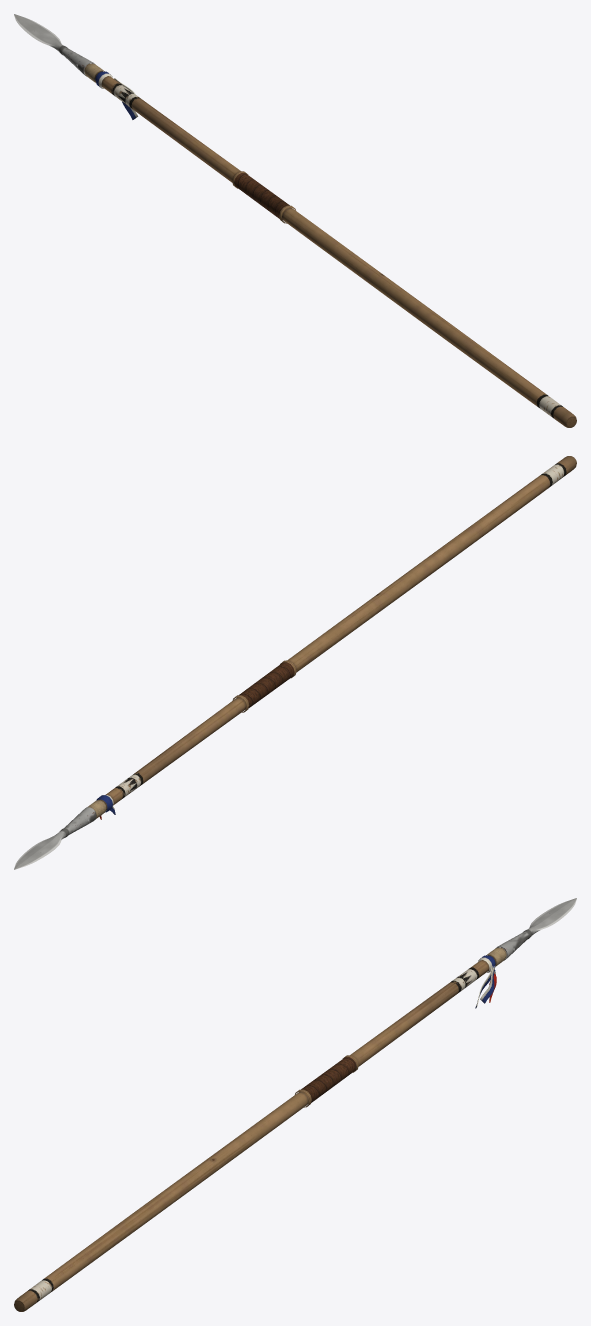
File: spear.glb
3 renders of one model, top to bottom at view 1: azimuth 30°, elevation 25°; view 2: azimuth 150°, elevation 25°; view 3: azimuth 330°, elevation 25°, orthographic.
Visible parts, largest first — view 1: Spear; view 2: Spear; view 3: Spear.
Boxes of the visible parts, x1=… form: Spear: x1=14, y1=14, x2=576, y2=427; Spear: x1=14, y1=456, x2=576, y2=869; Spear: x1=14, y1=898, x2=576, y2=1311.
Bounding box in the file's own units: 0.0539 × 0.0649 × 1.8.
1 material, 1 textured.
